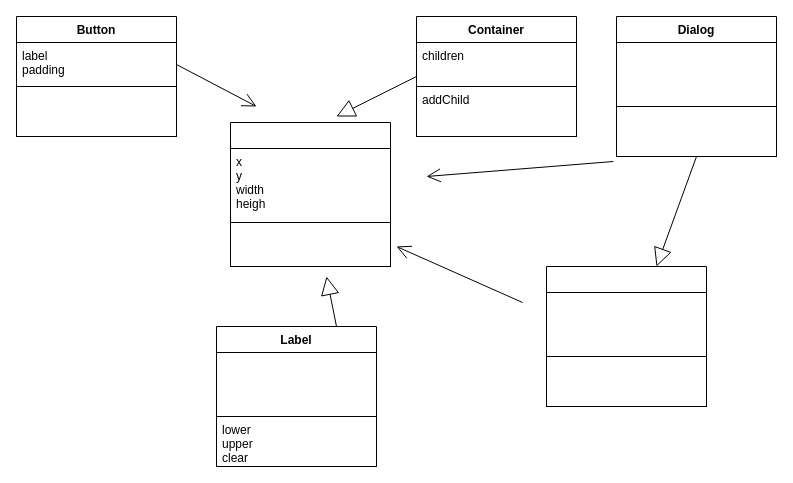
Some shapes in this 793 by 483 pixel diagram are drawn without their labels. The box of each missing label's shape, as (x1, y1, x2, y2) in pixels:
acceptButton rejectButton: (616, 42, 776, 106)
Component: (230, 122, 390, 266)
OnAccept OnReject: (616, 106, 776, 156)
text: (216, 352, 376, 416)
Window: (546, 266, 706, 406)
